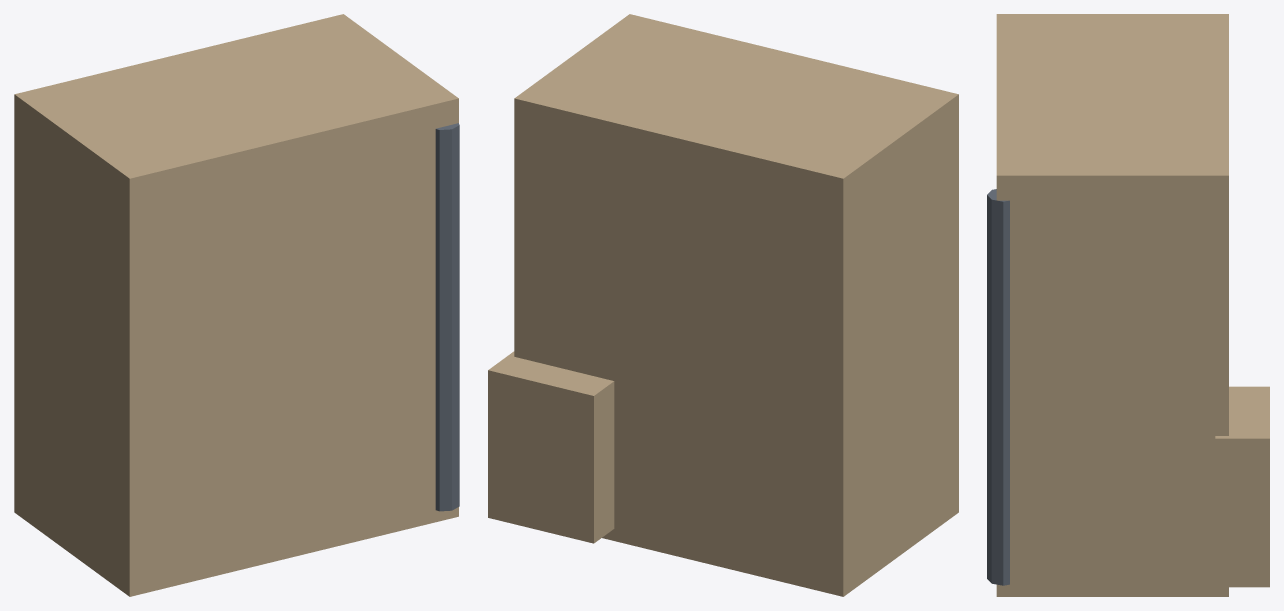
File: mochila_1.glb
3 renders of one model, left to right at view 1: azimuth 30°, elevation 25°; view 2: azimuth 150°, elevation 25°; view 3: azimuth 270°, elevation 25°, orthographic.
Parts seen in each view (by area): view 1: bolsa, correa; view 2: bolsa, bolsillo; view 3: bolsa, bolsillo, correa.
Boxes of the visible parts, left/top/right/bottom form: bolsa: left=14, top=14, right=458, bottom=596; correa: left=435, top=123, right=459, bottom=511; bolsa: left=514, top=14, right=958, bottom=596; bolsillo: left=488, top=351, right=614, bottom=543; bolsa: left=996, top=14, right=1228, bottom=596; bolsillo: left=1215, top=386, right=1269, bottom=587; correa: left=987, top=189, right=1009, bottom=585.
Size of the model in its own units: 0.7544 by 0.9 by 0.5479.
